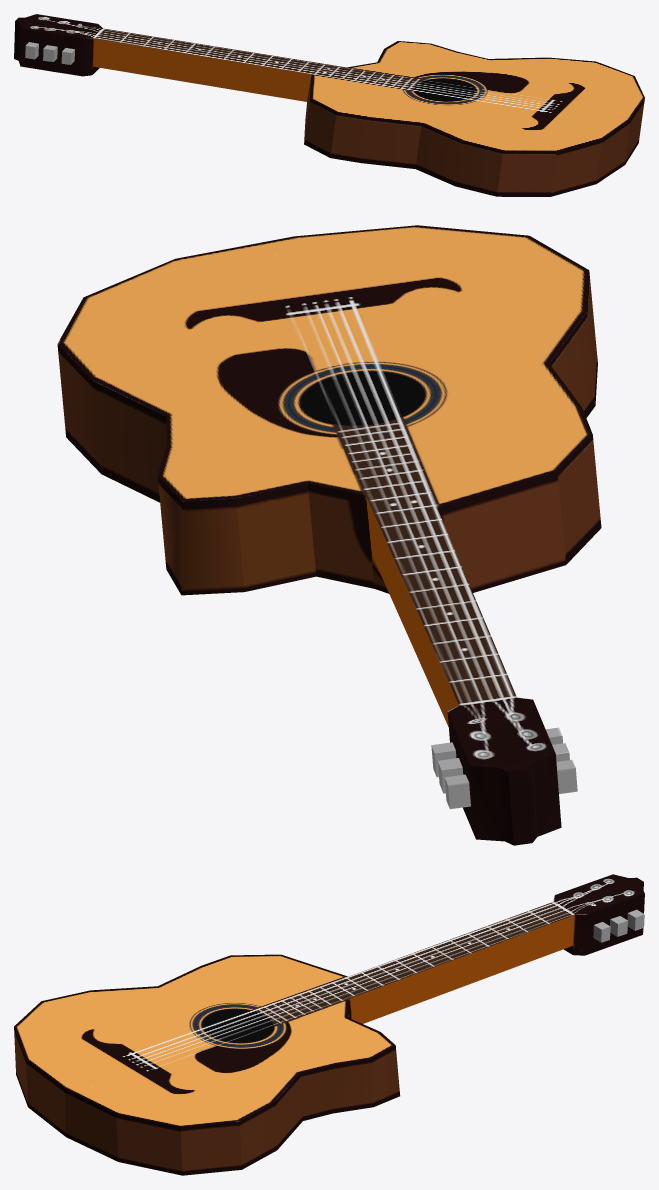
File: Guitarra3_000015.obj
The picture shows the model from 3 angles, top to bottom: view 1: azimuth 30°, elevation 25°; view 2: azimuth 150°, elevation 25°; view 3: azimuth 270°, elevation 25°; orthographic projection. The views are drawn at different scales.
Visible parts, largest first — view 1: Guitarra_2:pPlane4; view 2: Guitarra_2:pPlane4; view 3: Guitarra_2:pPlane4.
Part boxes in pixels (x1=…): Guitarra_2:pPlane4: x1=14, y1=14, x2=644, y2=196; Guitarra_2:pPlane4: x1=57, y1=225, x2=601, y2=845; Guitarra_2:pPlane4: x1=14, y1=874, x2=644, y2=1175.
Bounding box in the file's own units: 9.51 × 1.32 × 10.57.
